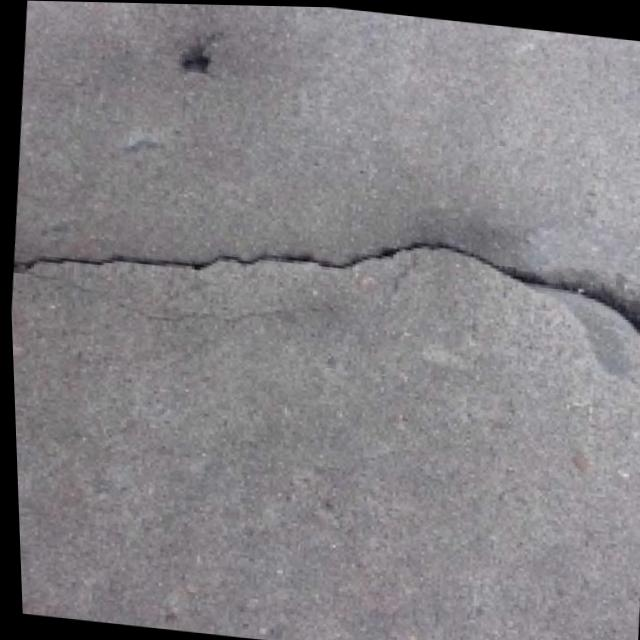Crack: (4, 152, 640, 400)
